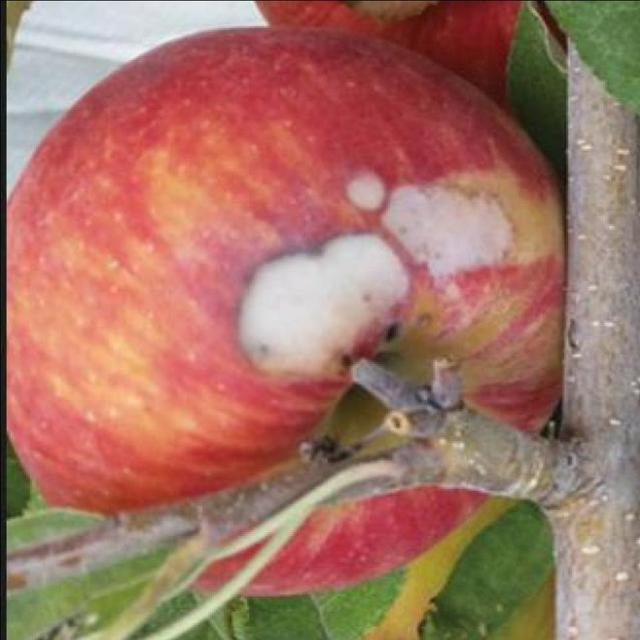Sunscald Fruit: (152, 94, 352, 270)
